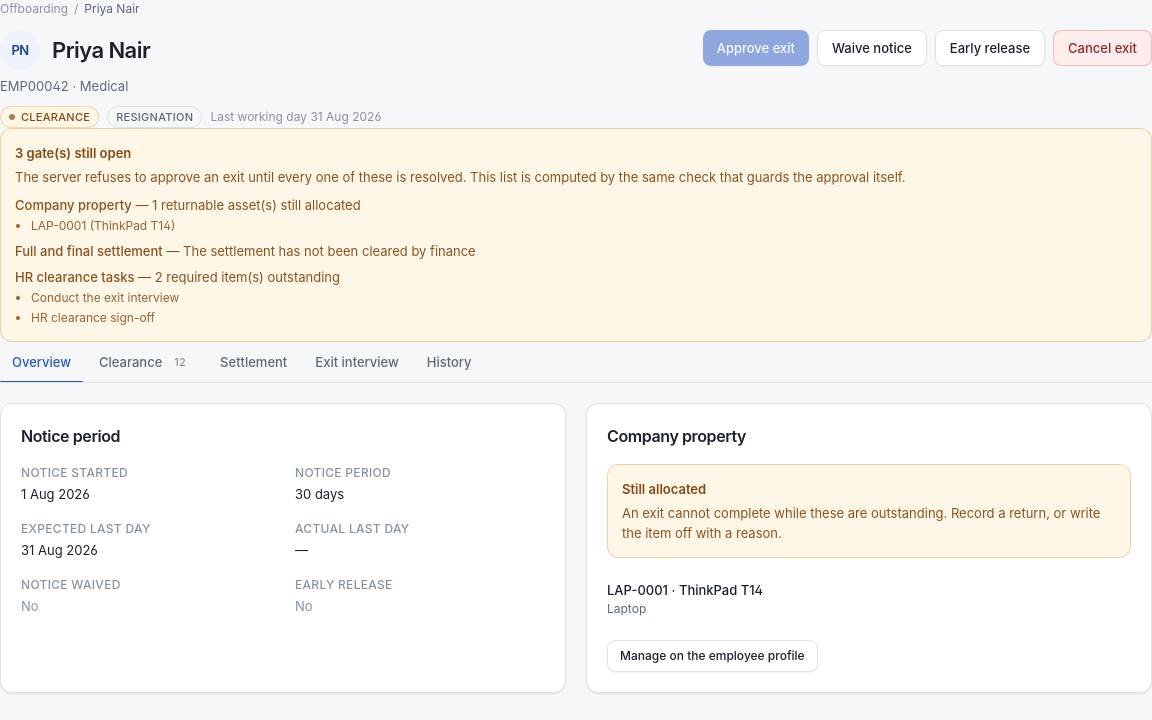
Test: The clearance checklist › groups items by the gate they belong to
Click the tab "Clearance 12" at (146, 362), box [87, 342, 204, 382]
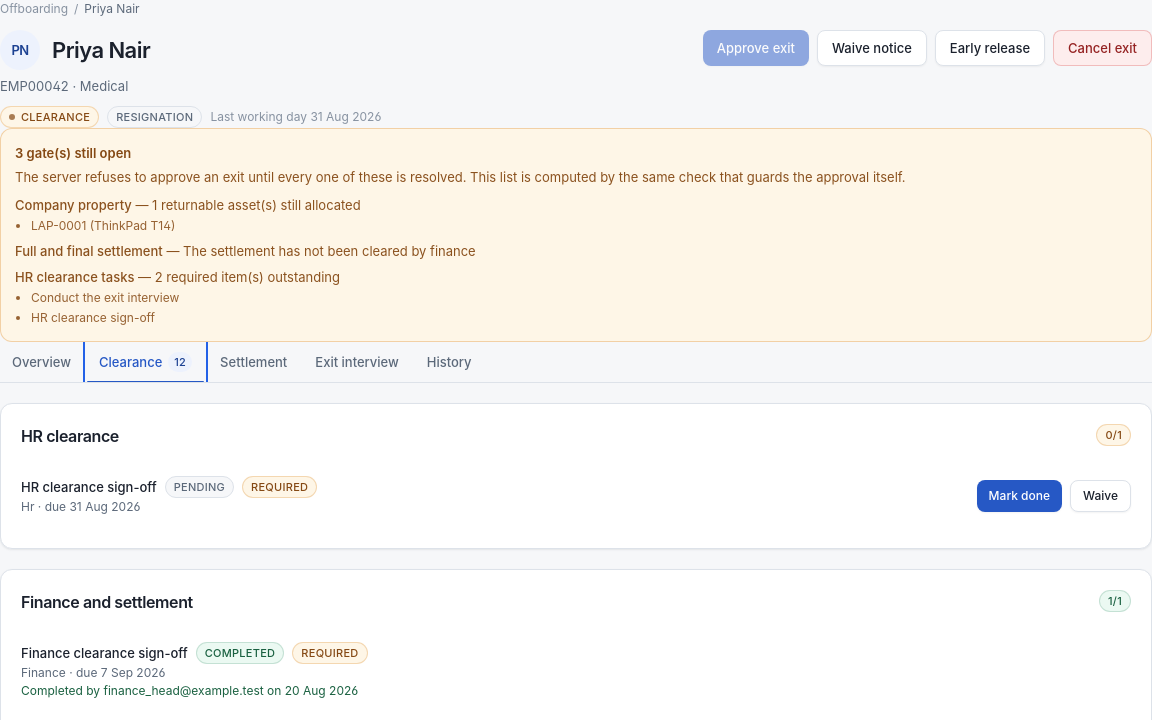
Check: the heading "HR clearance" is shown, box [21, 424, 119, 448]
Check: the heading "Finance and settlement" is shown, box [21, 590, 193, 614]
